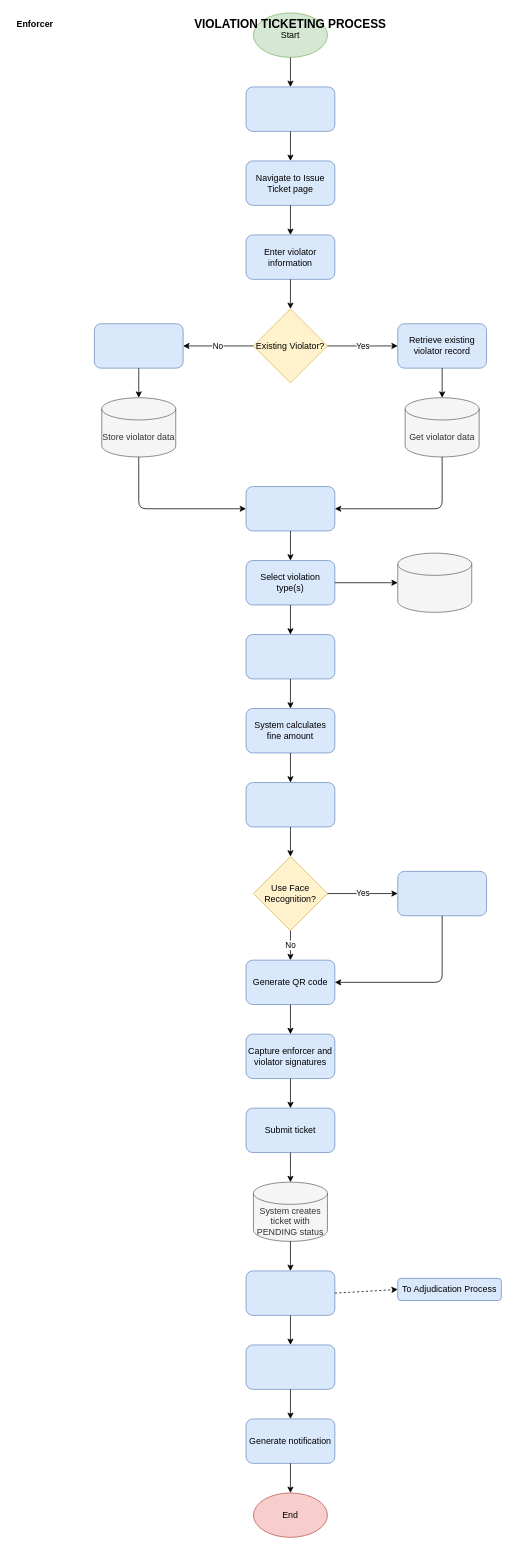
Image size: 514x1550. Some labels were removed from this diagram. Each missing label, with the centre of its shape:
"Capture photo evidence (optional)" belongs at [290,804].
"Create new violator record" belongs at [138,345].
"Enforcer logs in" belongs at [290,108].
"Enter vehicle information" belongs at [290,656].
"Enter violation details" belongs at [290,508].
"Perform face recognition" belongs at [442,893].
"Print ticket for violator" belongs at [290,1366].
"Queue for adjudication" belongs at [290,1292].
"Retrieve violation types" belongs at [434,582].
